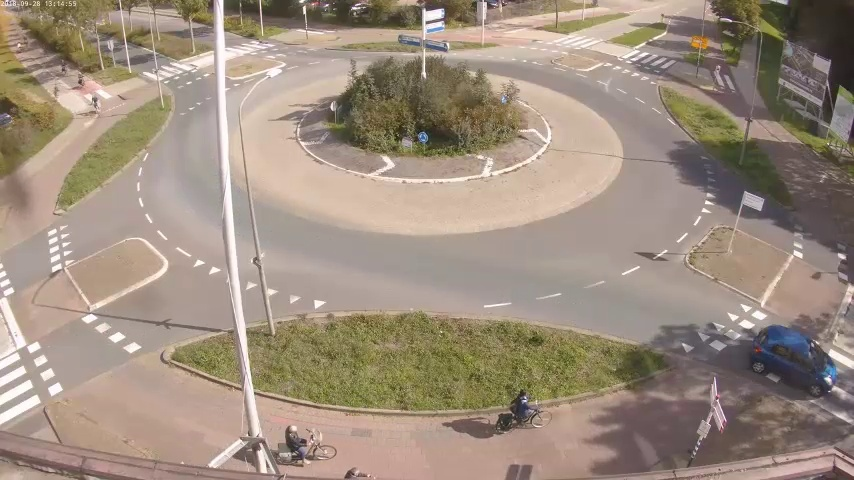bicycle: (491, 387, 544, 435), (281, 423, 336, 467), (86, 95, 100, 117), (75, 70, 85, 90), (59, 57, 68, 79)
car: (748, 326, 839, 397)
